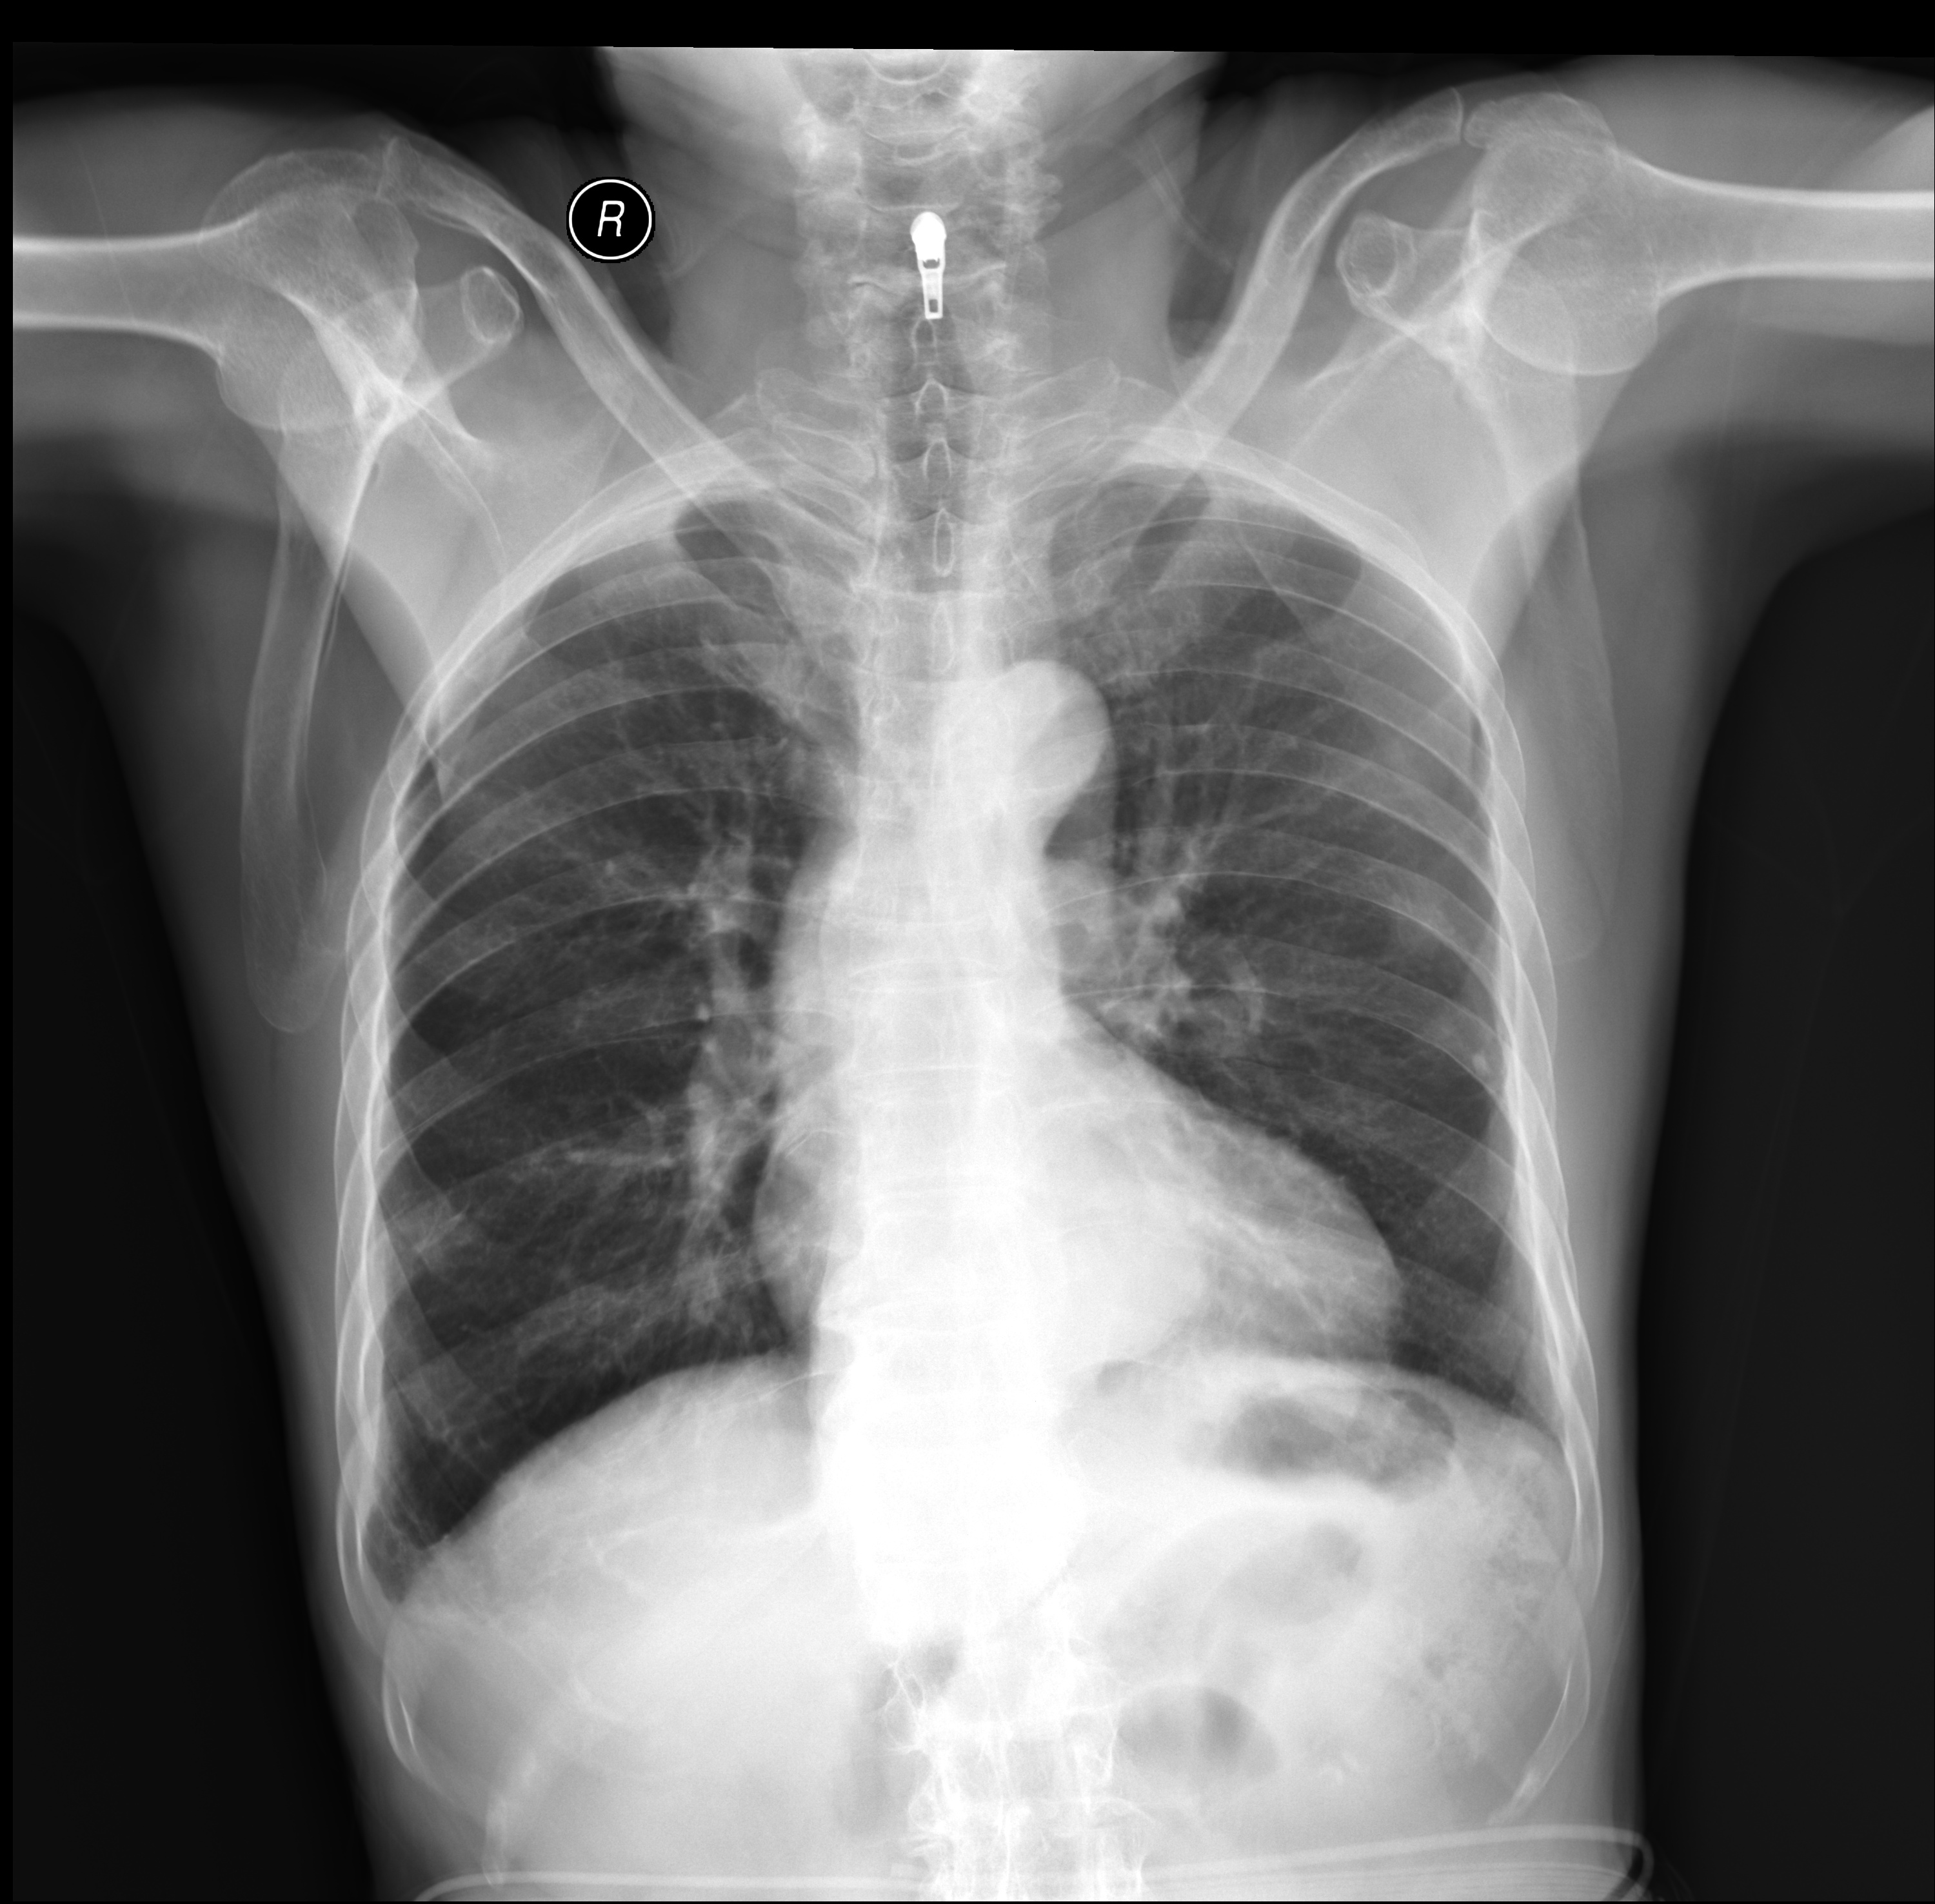nodule: (1335, 863, 1496, 985), (1433, 1025, 1525, 1109)
